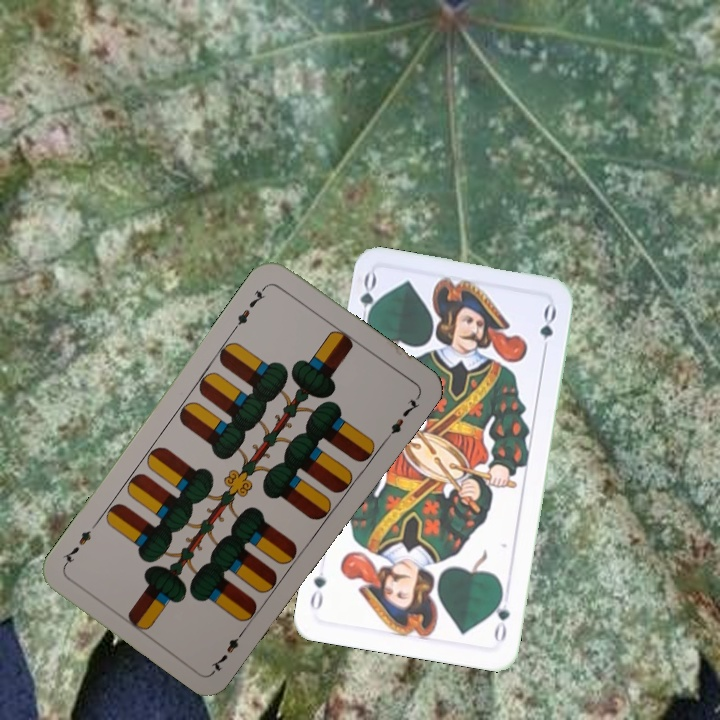E7: (207, 623, 249, 675), (230, 281, 270, 332)
GO: (356, 269, 381, 330), (489, 586, 513, 646)
